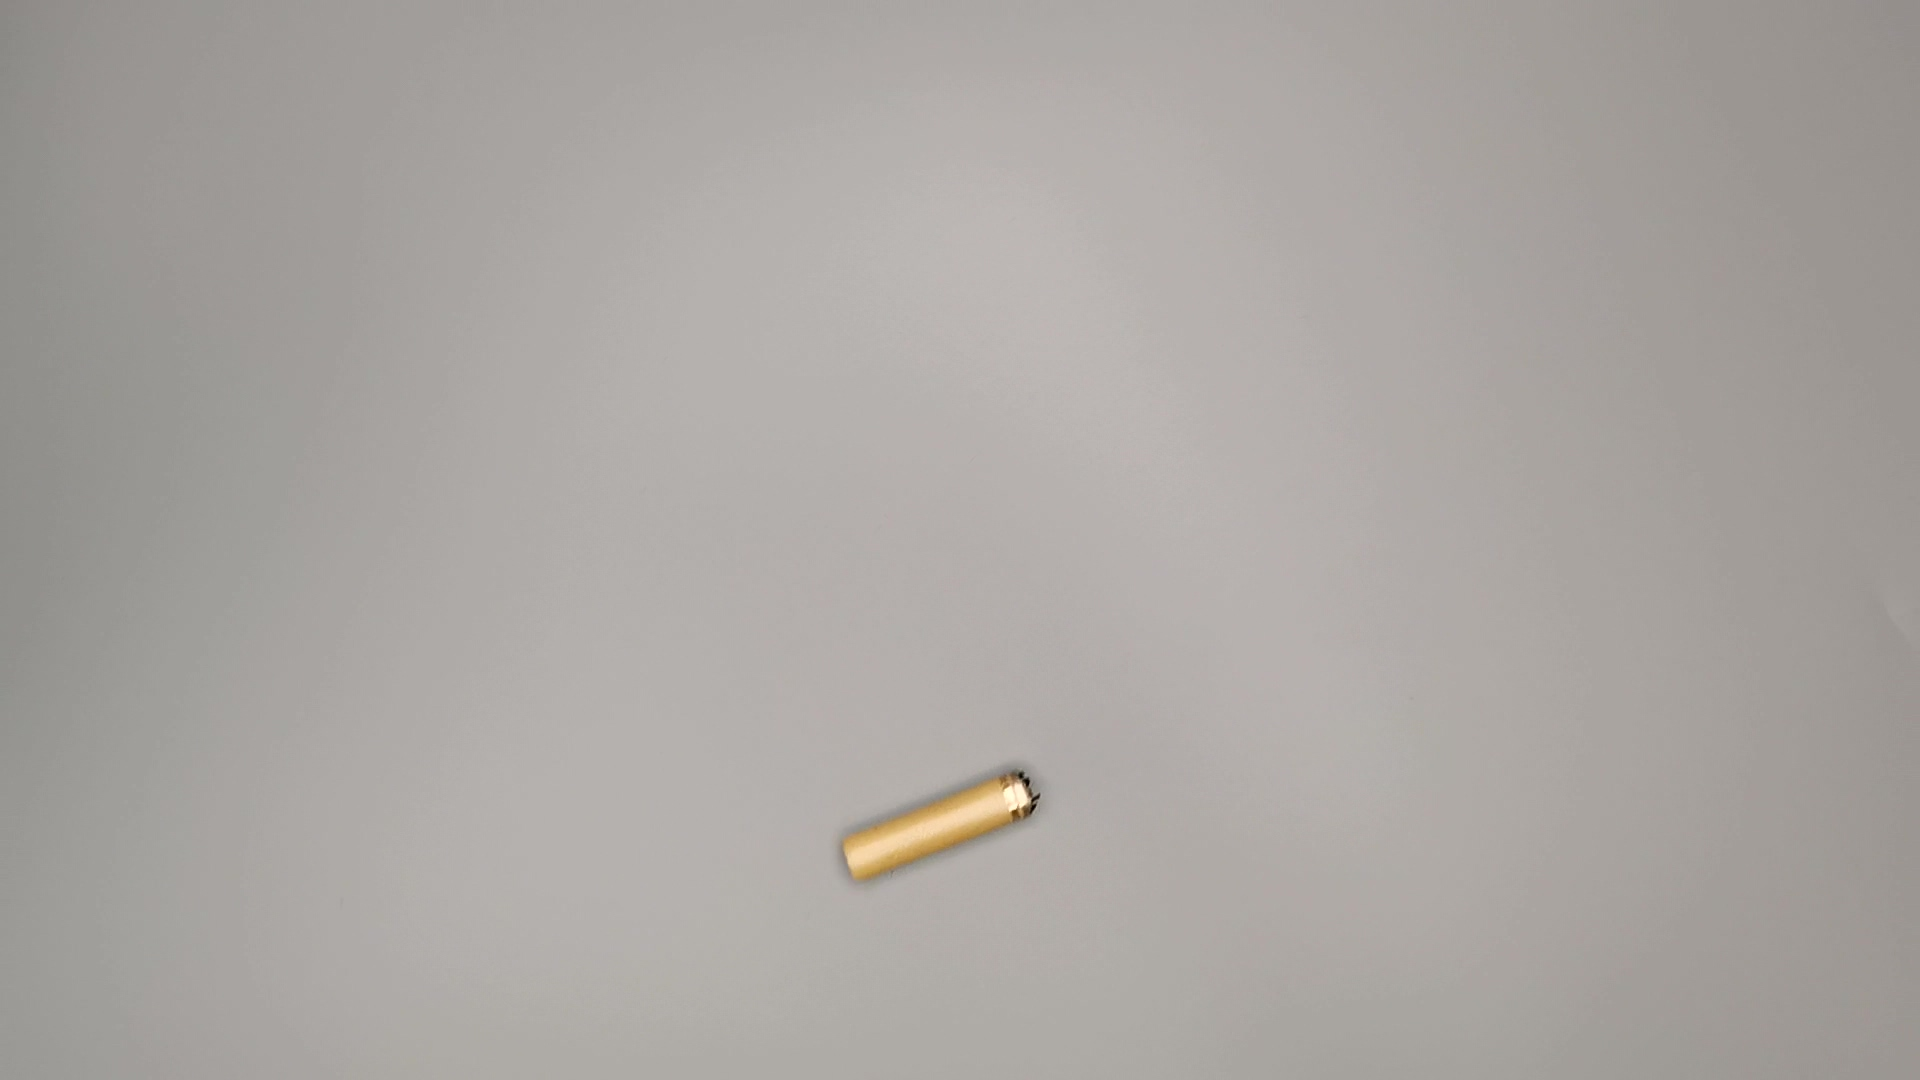cigarette: (837, 765, 1044, 886)
